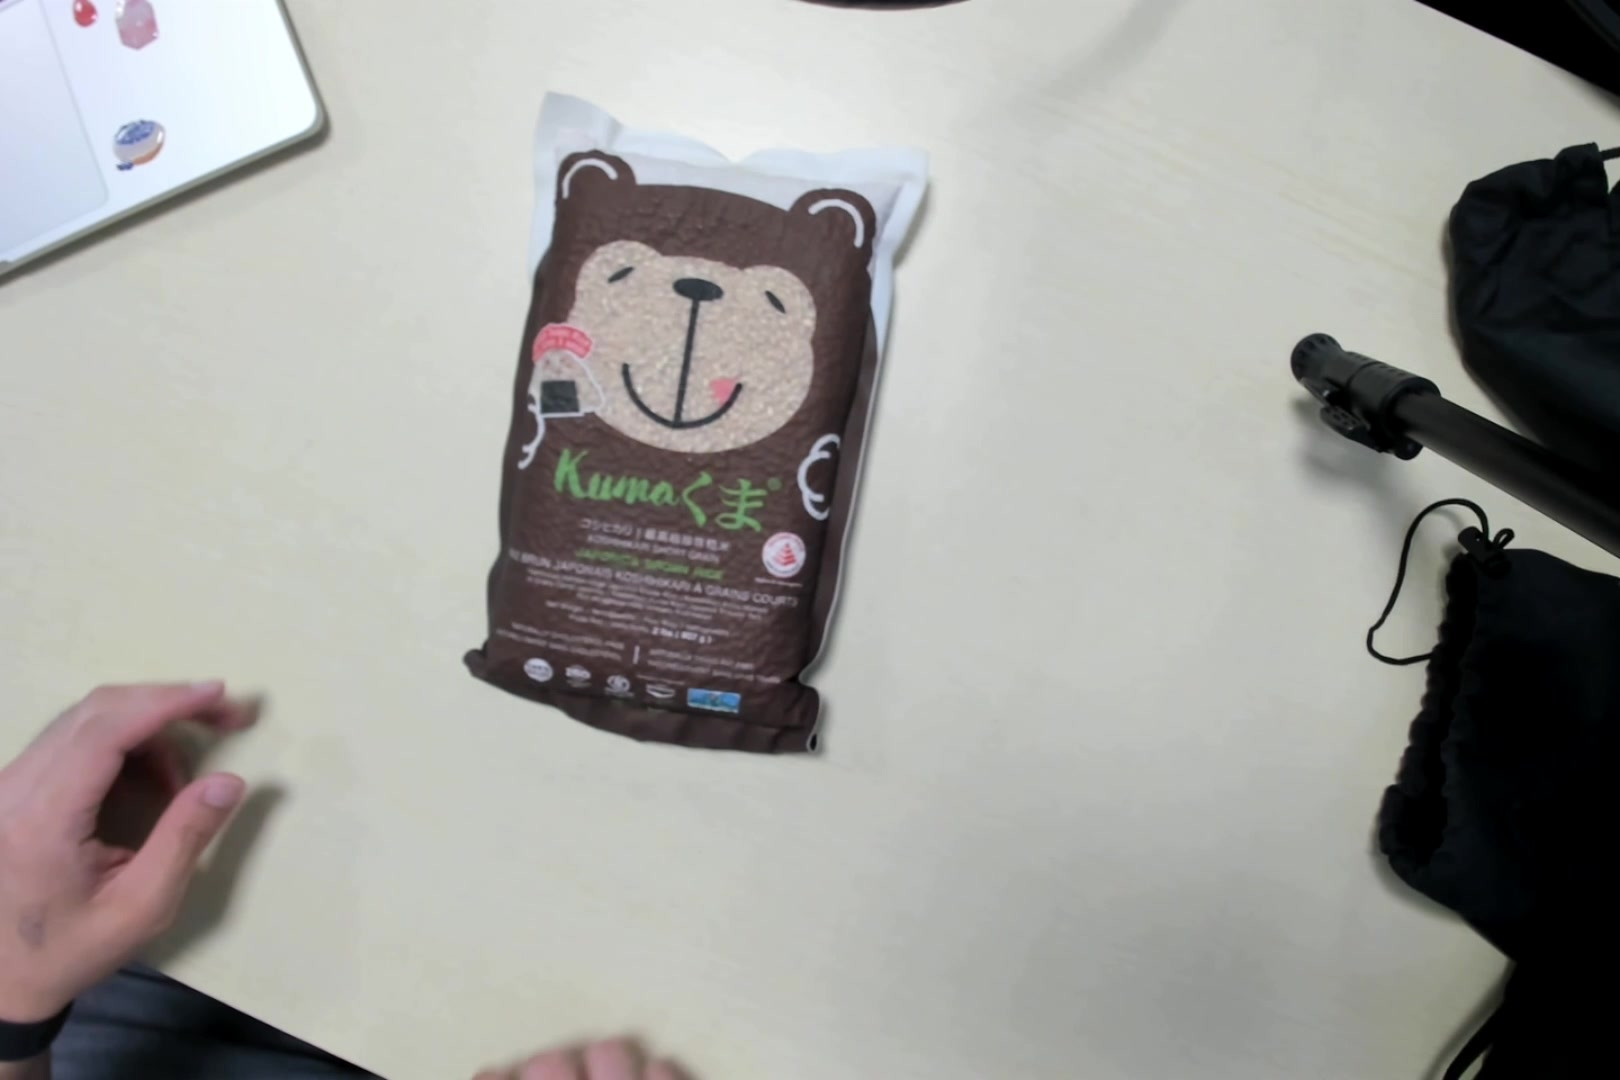Rice(BrownOthers)_500-599g_NonHalal_Healthy: (488, 110, 925, 755)
